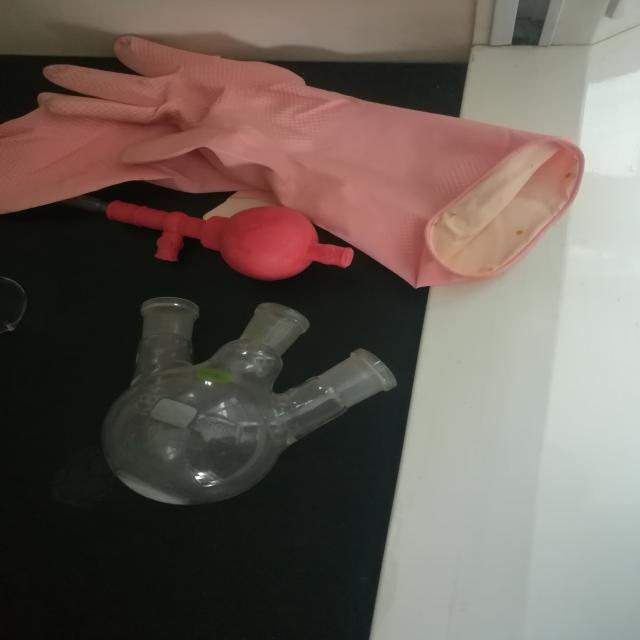Round_Bottom_Flask_Borosilicate_Glass_3_Neck: (60, 280, 408, 534)
